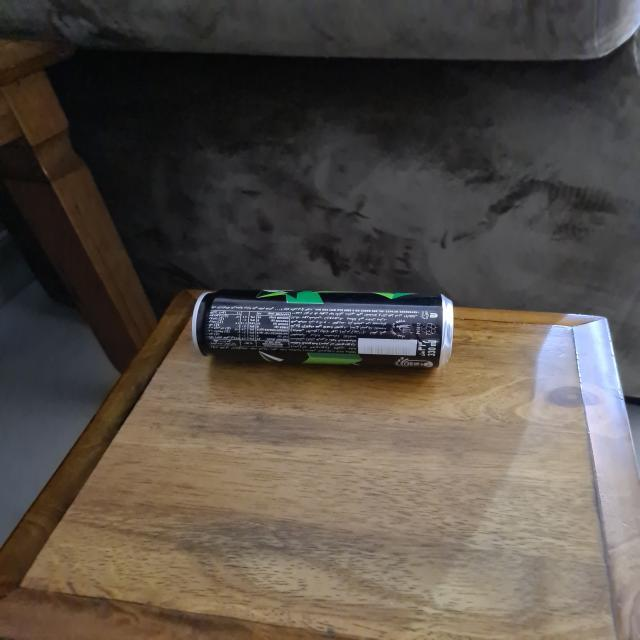can: (188, 284, 458, 382)
